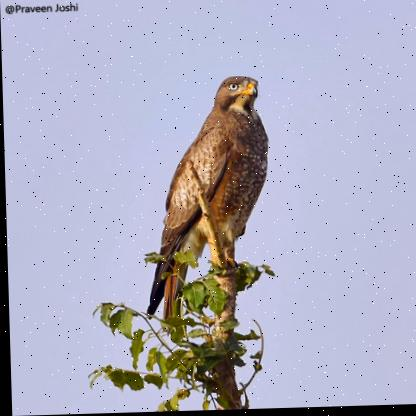Burung: (131, 74, 272, 322)
